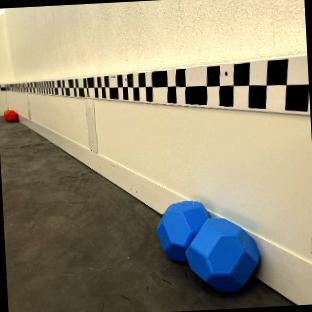V5_BLUE: (186, 217, 259, 291), (157, 201, 207, 260)
V5_RED: (4, 109, 17, 120)
